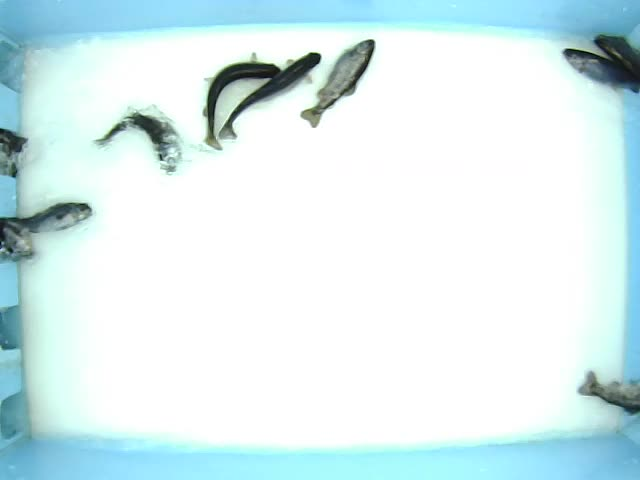fish: (218, 49, 316, 142), (98, 109, 197, 191), (304, 38, 373, 135), (564, 375, 640, 433), (14, 191, 96, 241)
